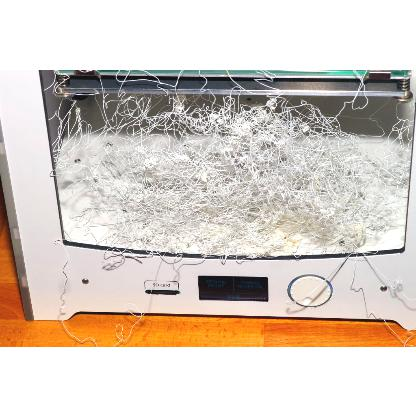fail: (53, 91, 388, 245)
